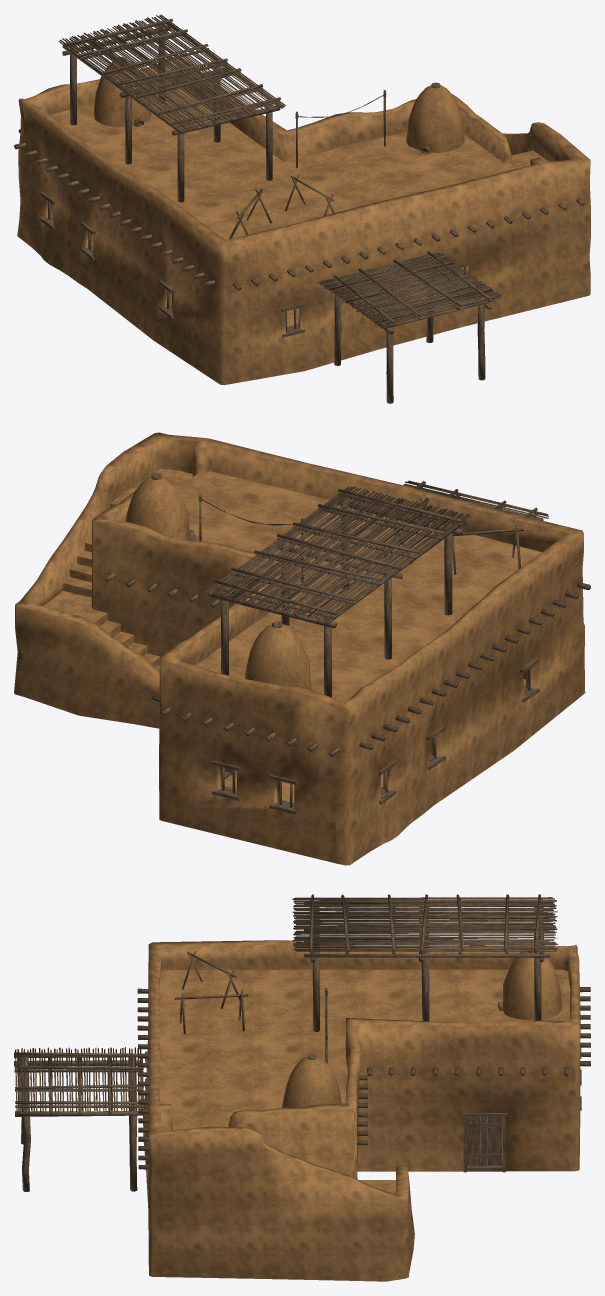
The model's file is adb_house_7.glb.
3 renders of one model, top to bottom at view 1: azimuth 30°, elevation 25°; view 2: azimuth 150°, elevation 25°; view 3: azimuth 270°, elevation 25°, orthographic. The views are drawn at different scales.
Parts seen in each view (by area): view 1: adb_house_7; view 2: adb_house_7; view 3: adb_house_7.
Part boxes in pixels (<box>): adb_house_7: <box>14,14,590,403</box>; adb_house_7: <box>14,432,590,865</box>; adb_house_7: <box>14,894,590,1281</box>.
Size of the model in its own units: 7.19 by 3.61 by 8.87.
Materials: 3 (3 with a texture image).
